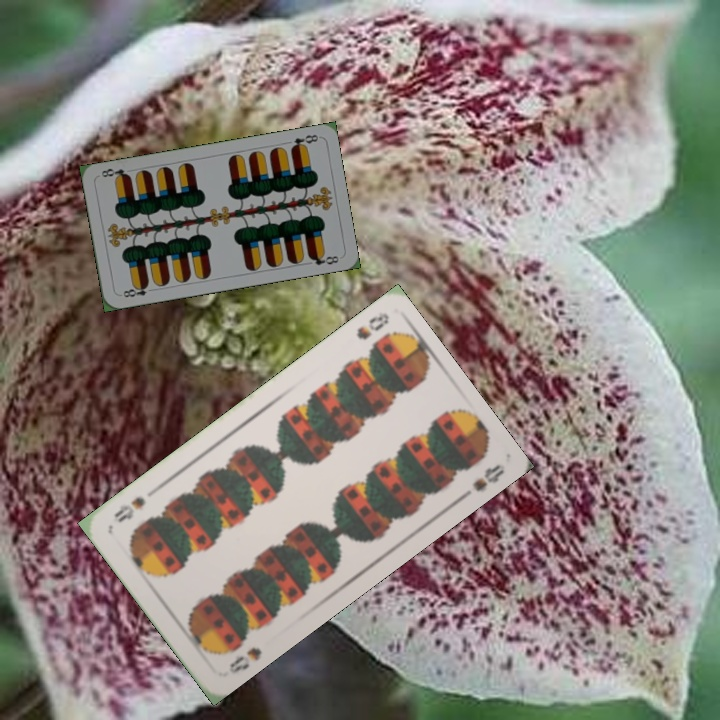E8: (116, 280, 157, 300), (287, 130, 321, 152)
S8: (352, 308, 392, 343), (224, 643, 264, 677)
